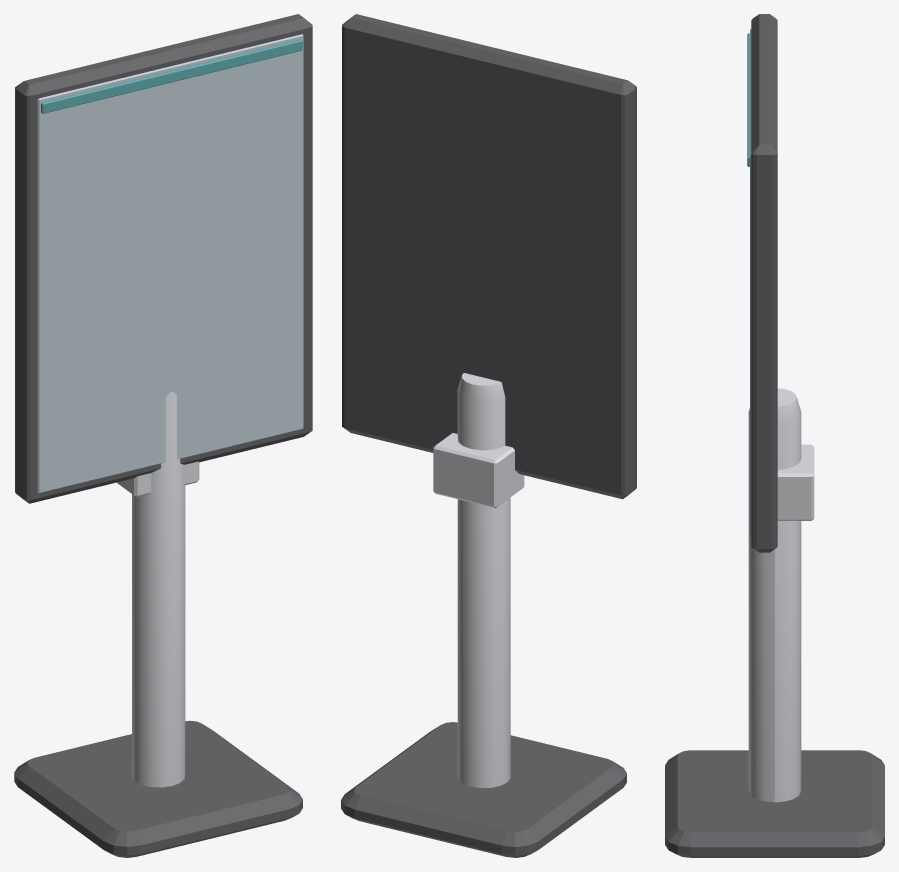
File: fast-food-and-drive-thru-order-status-screen-c3e443b5__16125.glb
The picture shows the model from 3 angles, left to right: view 1: azimuth 30°, elevation 25°; view 2: azimuth 150°, elevation 25°; view 3: azimuth 270°, elevation 25°; orthographic projection. The views are drawn at different scales.
Visible parts, largest first — view 1: order-status-screen; view 2: order-status-screen; view 3: order-status-screen.
Part boxes in pixels (<box>): order-status-screen: <box>14,14,312,857</box>; order-status-screen: <box>341,14,636,857</box>; order-status-screen: <box>665,14,884,857</box>.
Bounding box in the file's own units: 0.6199 × 1.55 × 0.4199.
